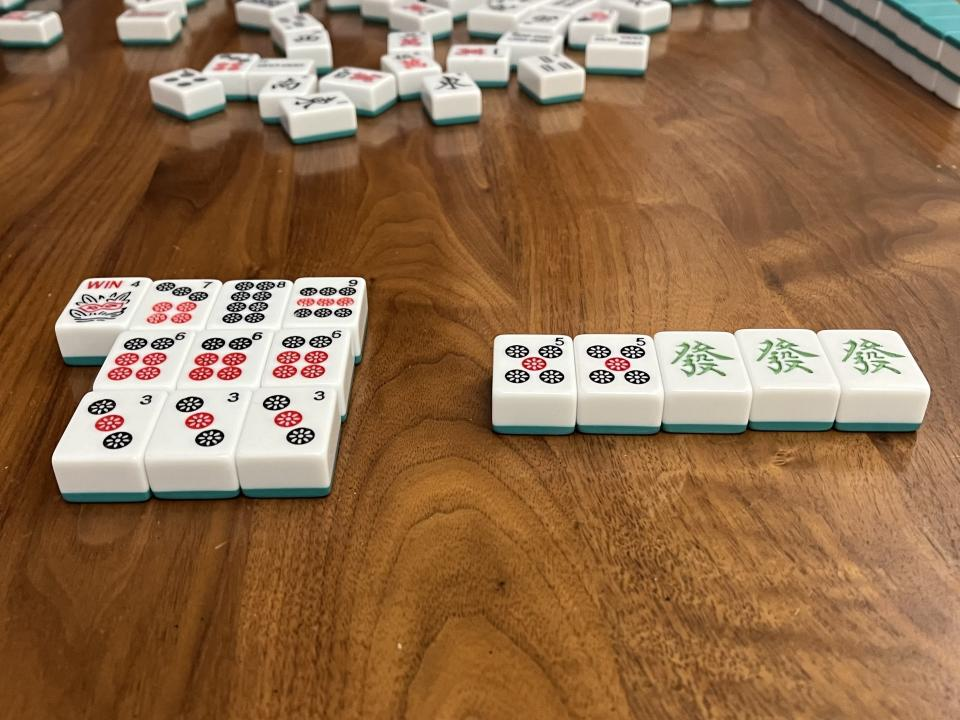circle-eight: (204, 279, 295, 329)
circle-five: (575, 334, 664, 394), (492, 335, 576, 396)
circle-nine: (279, 278, 368, 328)
circle-seven: (126, 280, 224, 328)
circle-six: (90, 330, 199, 390), (175, 329, 277, 390), (260, 329, 350, 387)
circle-three: (51, 390, 168, 460), (143, 390, 255, 458), (235, 388, 338, 457)
flower-red_four: (54, 277, 154, 327)
honor-green_dragon: (817, 330, 933, 391), (733, 329, 842, 391), (654, 332, 754, 393)
